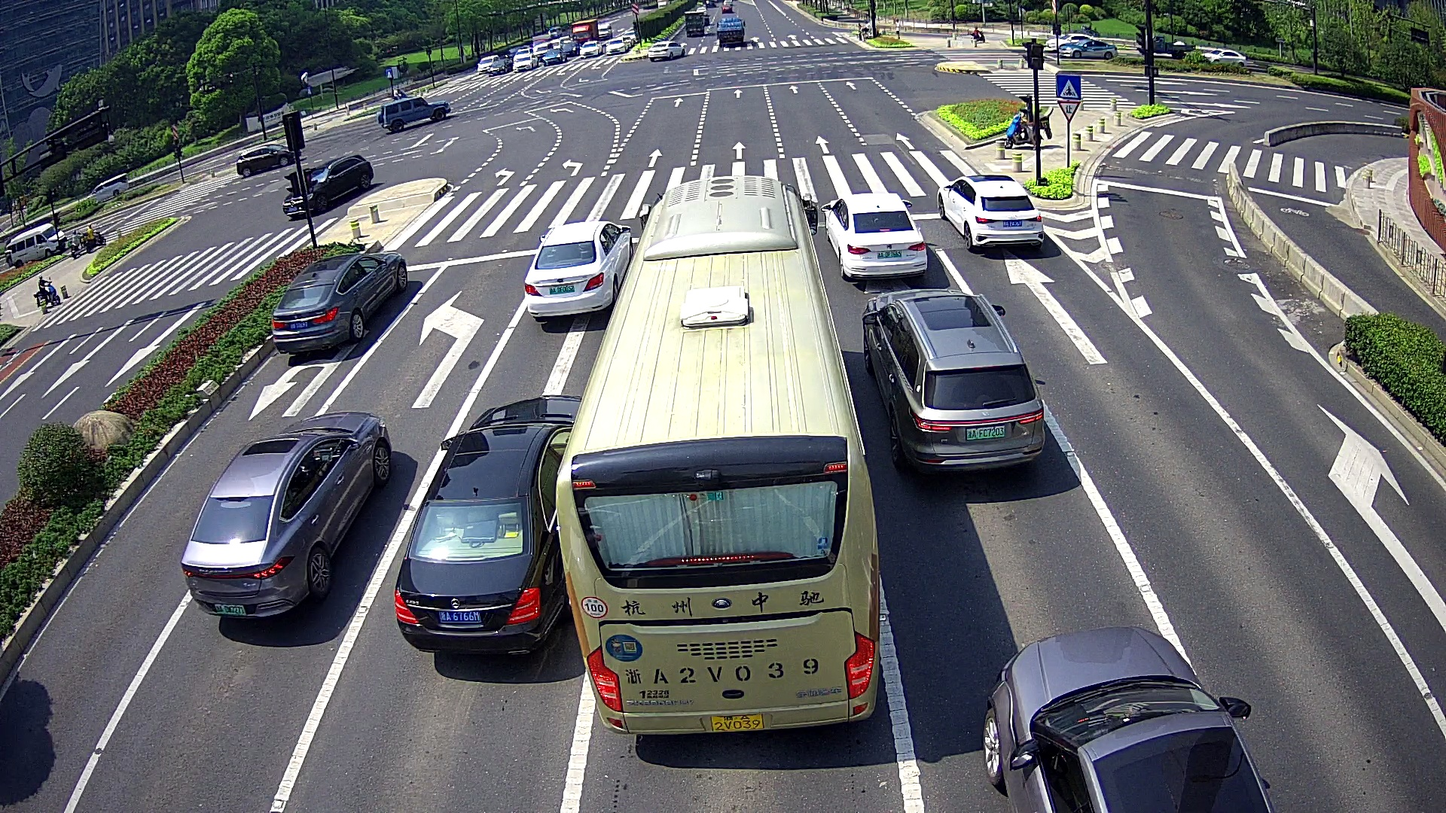vehicle: (552, 172, 885, 738), (976, 623, 1273, 808), (392, 382, 575, 656), (179, 403, 389, 624), (858, 285, 1050, 477), (268, 249, 409, 357), (519, 218, 635, 320), (818, 190, 929, 281), (932, 171, 1045, 251), (276, 152, 372, 218), (374, 96, 453, 132), (232, 142, 303, 178), (5, 222, 64, 257), (999, 112, 1052, 147)
